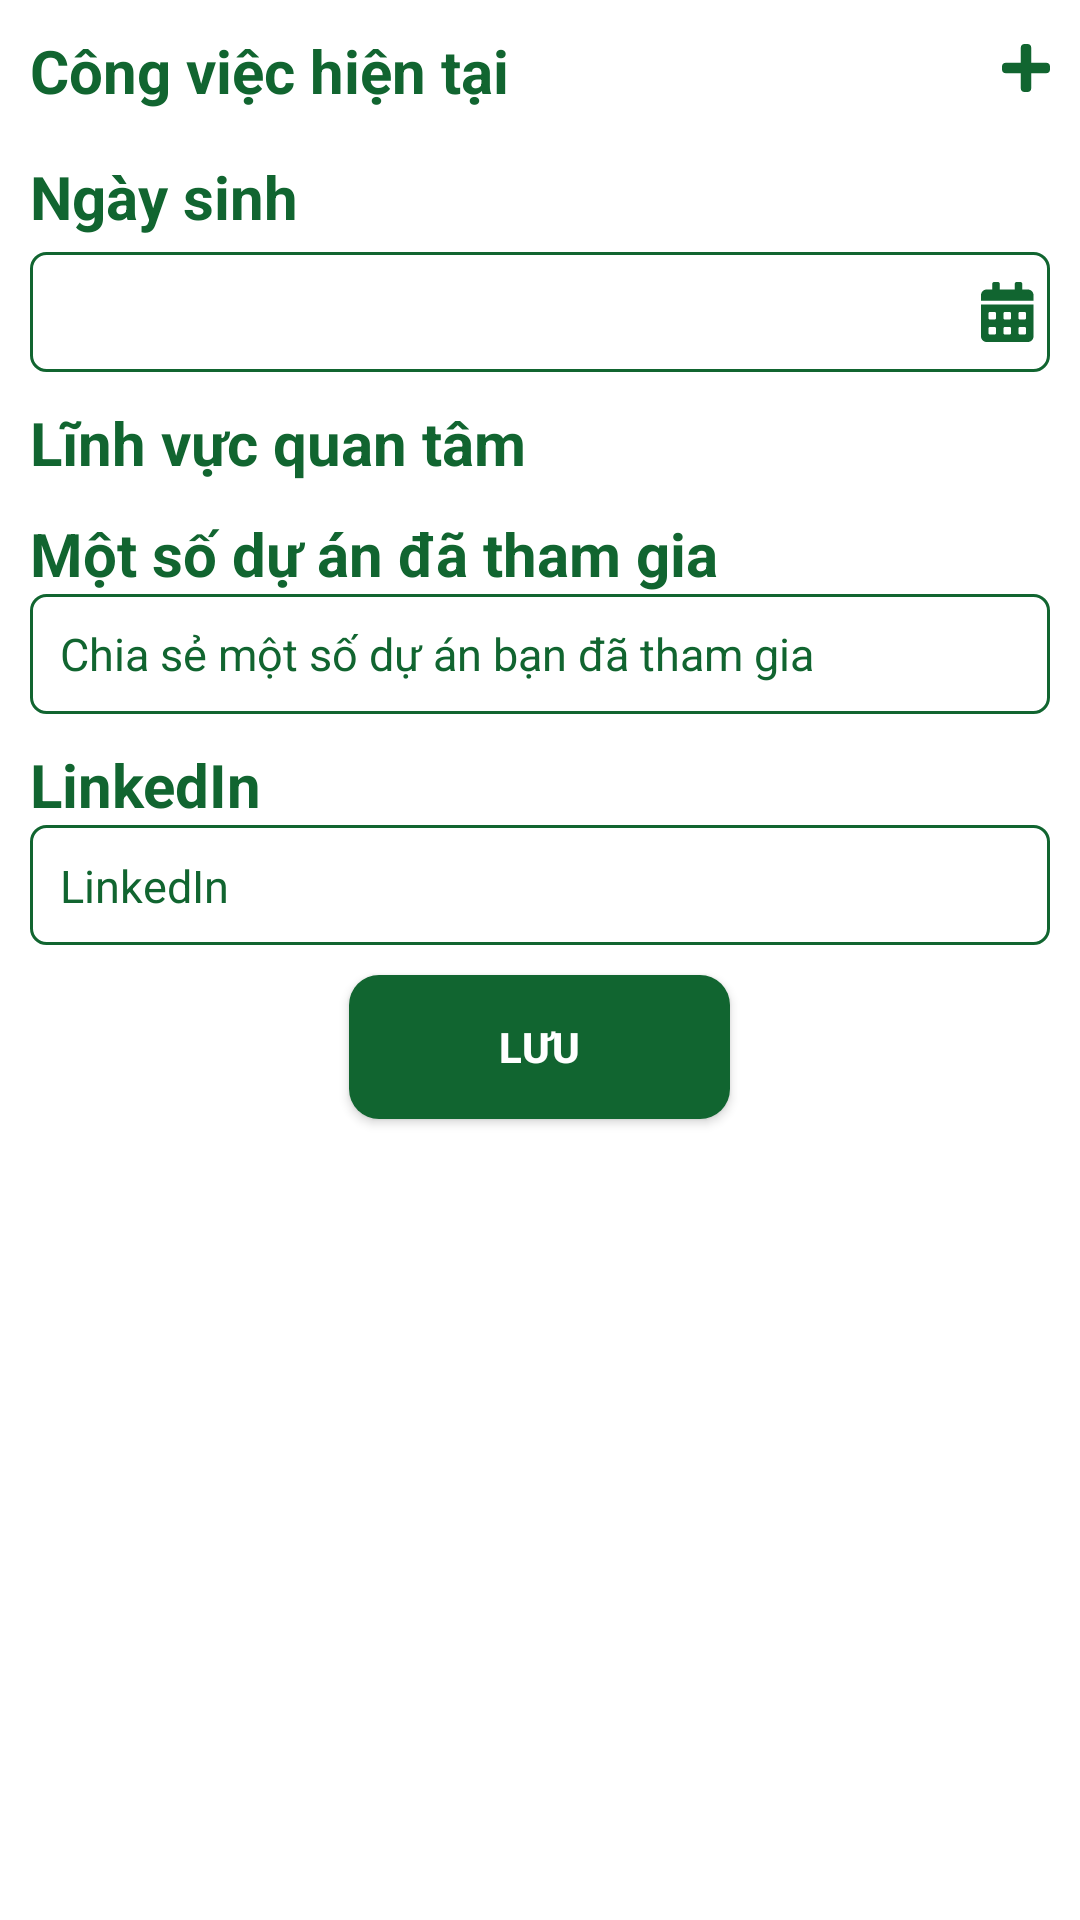

Icon click points for this 1080px×1920px phone screenshot, format (x=x, y=y):
add: (x=1026, y=68)
